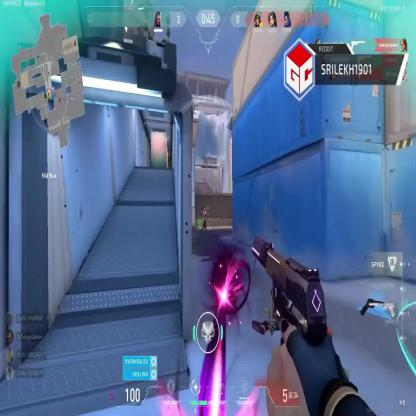enemy_head: (200, 206, 208, 232), (202, 207, 206, 211)
